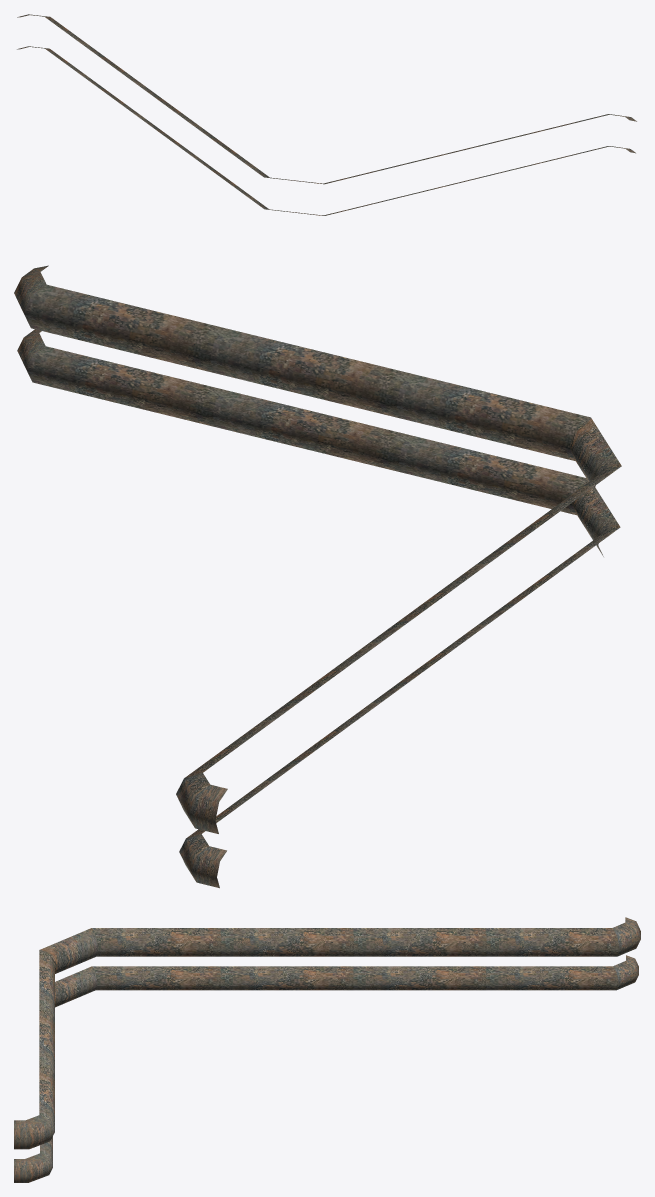
File: M11Z2_SCUDHouse_Pipes_D.glb
3 views of the same model, one above another, from view 1: azimuth 30°, elevation 25°; view 2: azimuth 150°, elevation 25°; view 3: azimuth 270°, elevation 25° (orthographic). The views are drawn at different scales.
Visible parts, largest first — view 1: M11Z2_SCUDHOUSE_PIPES_D; view 2: M11Z2_SCUDHOUSE_PIPES_D; view 3: M11Z2_SCUDHOUSE_PIPES_D.
Part boxes in pixels (x1=…): M11Z2_SCUDHOUSE_PIPES_D: x1=17, y1=14, x2=636, y2=215; M11Z2_SCUDHOUSE_PIPES_D: x1=14, y1=265, x2=621, y2=888; M11Z2_SCUDHOUSE_PIPES_D: x1=14, y1=917, x2=640, y2=1182.
Bounding box in the file's own units: 4.77 × 0.653 × 6.02.
Materials: 1 (1 with a texture image).
